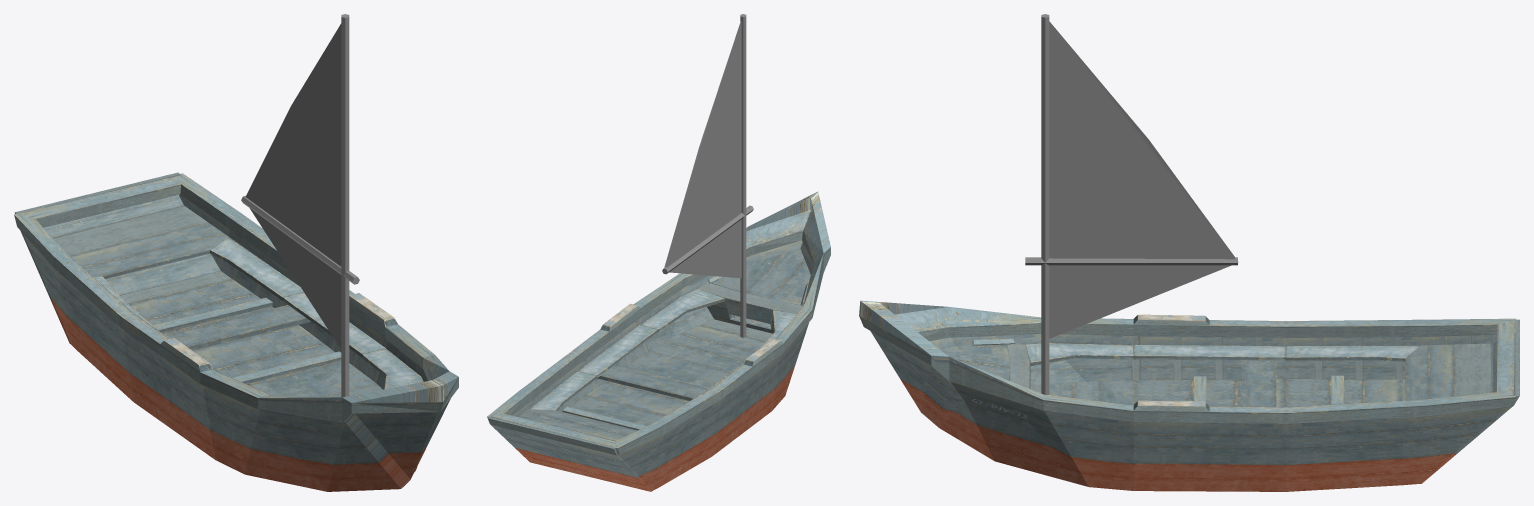
The model's file is bote con vela.FBX.
3 views of the same model, side by side, from view 1: azimuth 30°, elevation 25°; view 2: azimuth 150°, elevation 25°; view 3: azimuth 270°, elevation 25° (orthographic). The views are drawn at different scales.
Parts seen in each view (by area): view 1: boat, Cylinder001; view 2: boat, Cylinder001; view 3: boat, Cylinder001.
Part boxes in pixels (<box>): boat: <box>14,172,458,491</box>; Cylinder001: <box>241,14,359,397</box>; boat: <box>487,191,830,491</box>; Cylinder001: <box>662,14,753,337</box>; boat: <box>859,300,1519,491</box>; Cylinder001: <box>1025,14,1238,394</box>.
Bounding box in the file's own units: 12.98 × 28.71 × 39.42.
